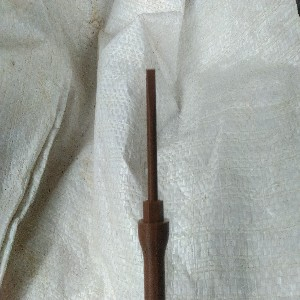obeng: (137, 67, 170, 300)
